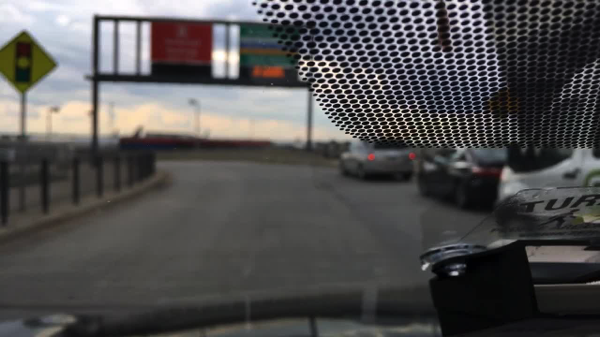car: (417, 140, 508, 209), (338, 138, 414, 179)
traffic sign: (240, 23, 301, 82), (0, 30, 56, 93), (151, 22, 213, 78)
truck: (492, 83, 598, 240)
